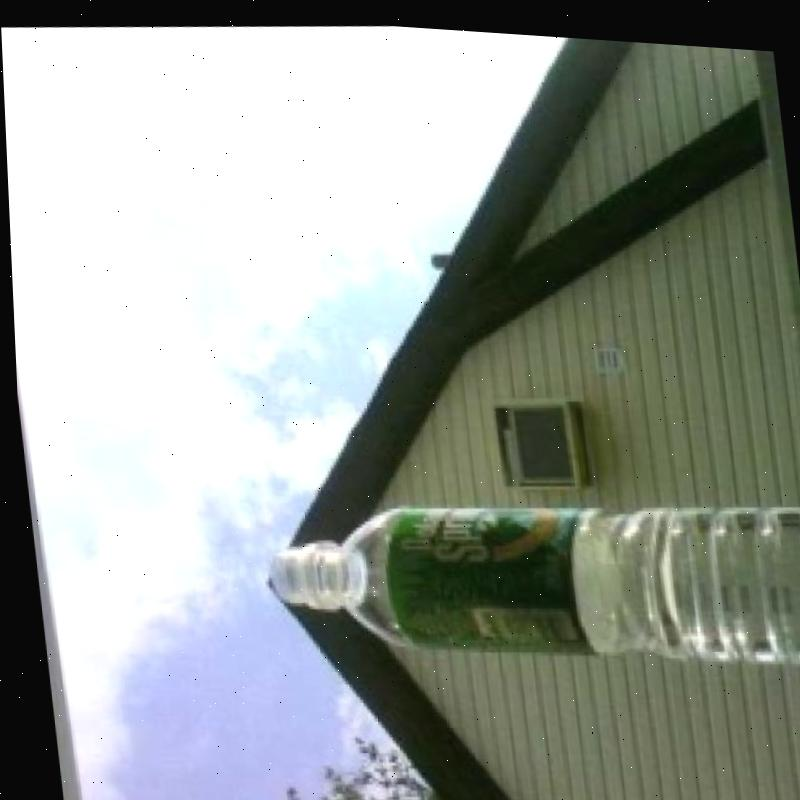botella: (255, 463, 800, 690)
